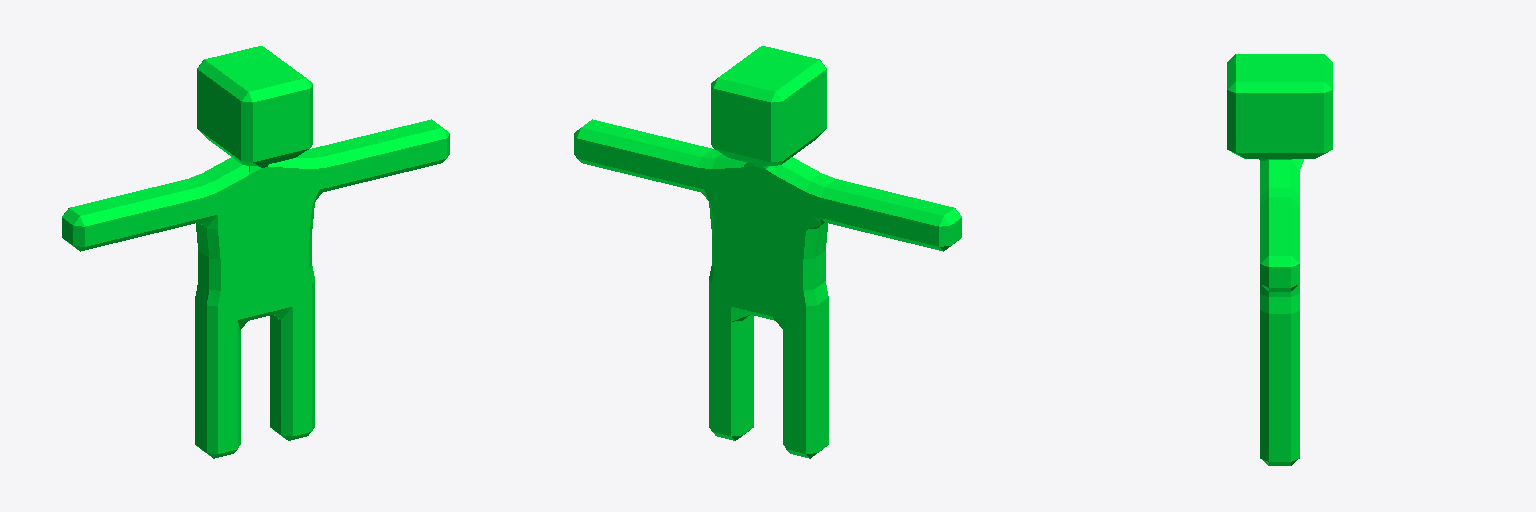
The picture shows the model from 3 angles: view 1: azimuth 30°, elevation 25°; view 2: azimuth 150°, elevation 25°; view 3: azimuth 270°, elevation 25°; orthographic projection.
Parts seen in each view (by area): view 1: 立方体; view 2: 立方体; view 3: 立方体.
Part boxes in pixels (left/top/right/bottom): 立方体: left=62, top=46, right=449, bottom=458; 立方体: left=574, top=46, right=961, bottom=458; 立方体: left=1227, top=54, right=1332, bottom=465.
Bounding box in the file's own units: 5.59 × 5.31 × 1.35.
1 materials, 1 textured.